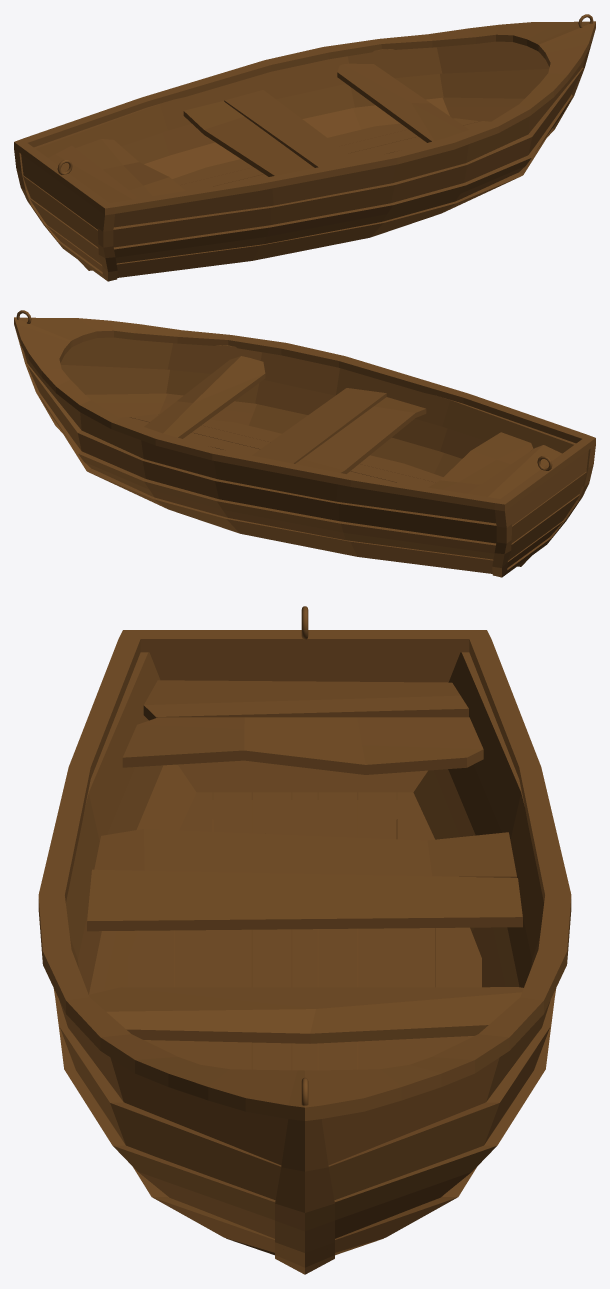
File: SM_Boat_LP.fbx
The picture shows the model from 3 angles, top to bottom: view 1: azimuth 30°, elevation 25°; view 2: azimuth 150°, elevation 25°; view 3: azimuth 270°, elevation 25°; orthographic projection. The views are drawn at different scales.
Visible parts, largest first — view 1: Boat_LP; view 2: Boat_LP; view 3: Boat_LP.
Part boxes in pixels (bbox=[...]): Boat_LP: bbox=[14, 14, 595, 281]; Boat_LP: bbox=[14, 310, 595, 577]; Boat_LP: bbox=[38, 606, 571, 1274].
Size of the model in its own units: 4.32 by 1.04 by 1.85.
